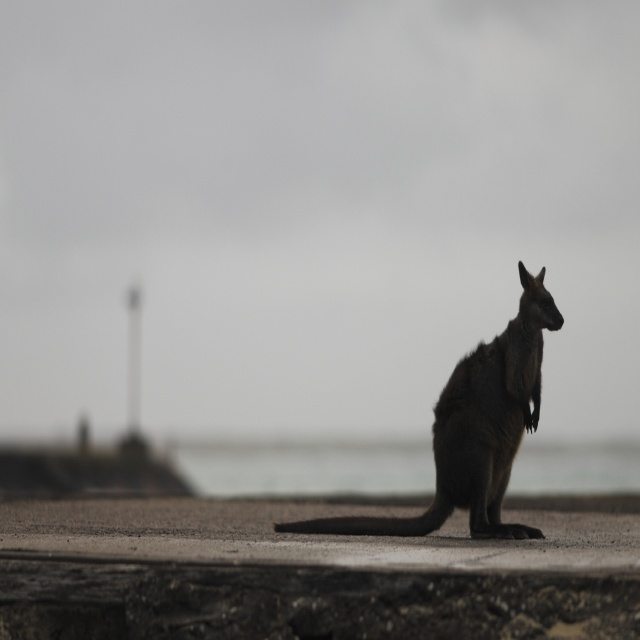Kangaroo: (271, 261, 568, 533)
